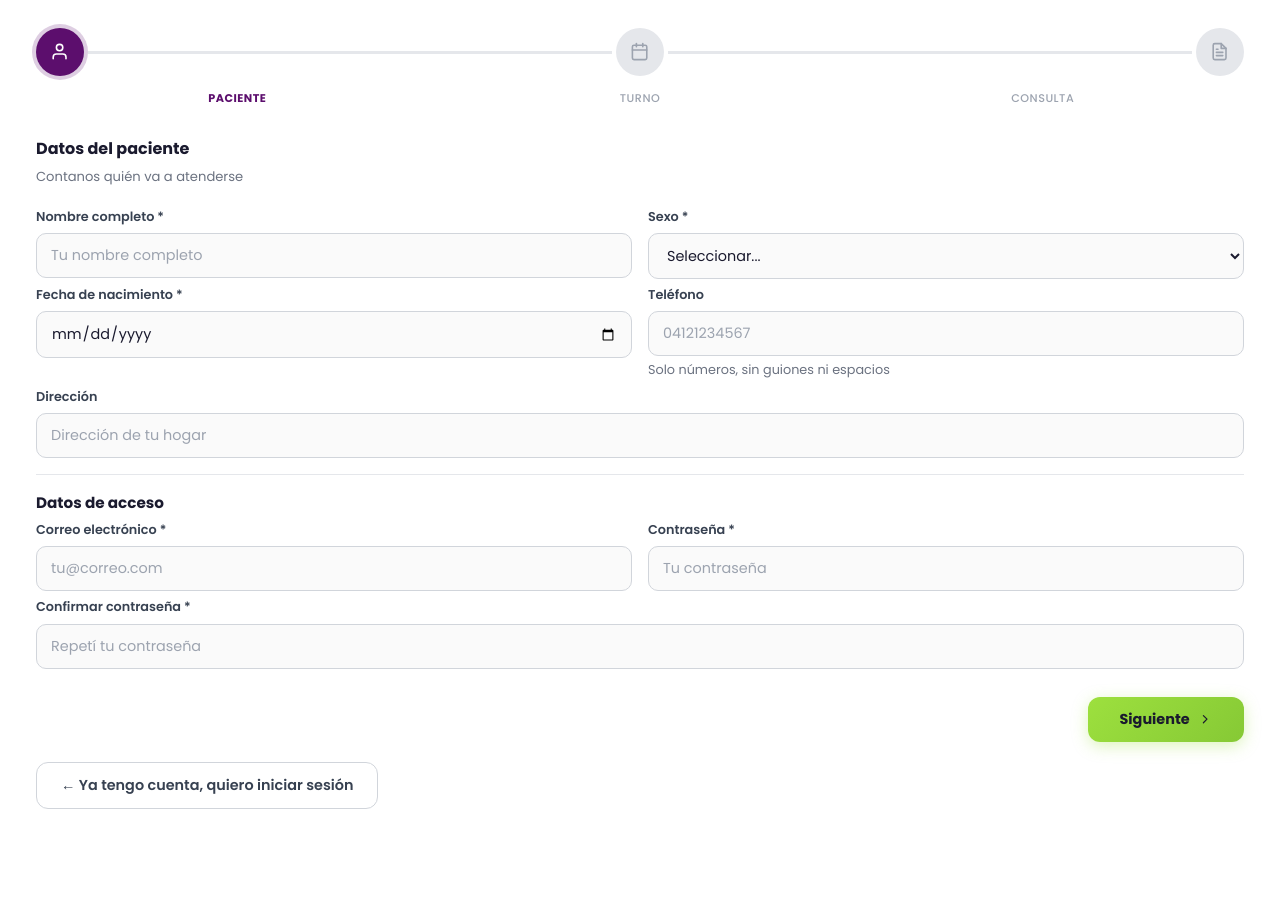
Scenario: el domingo está cerrado
Type "Ana Pérez" into the field with placeholder "Tu nombre completo" at (334, 256), box [36,233,632,278]
Select "Femenino" in the dropdown at (946, 256), box [648,233,1244,279]
Type "1990-05-15" into the date field at (334, 335), box [36,312,632,358]
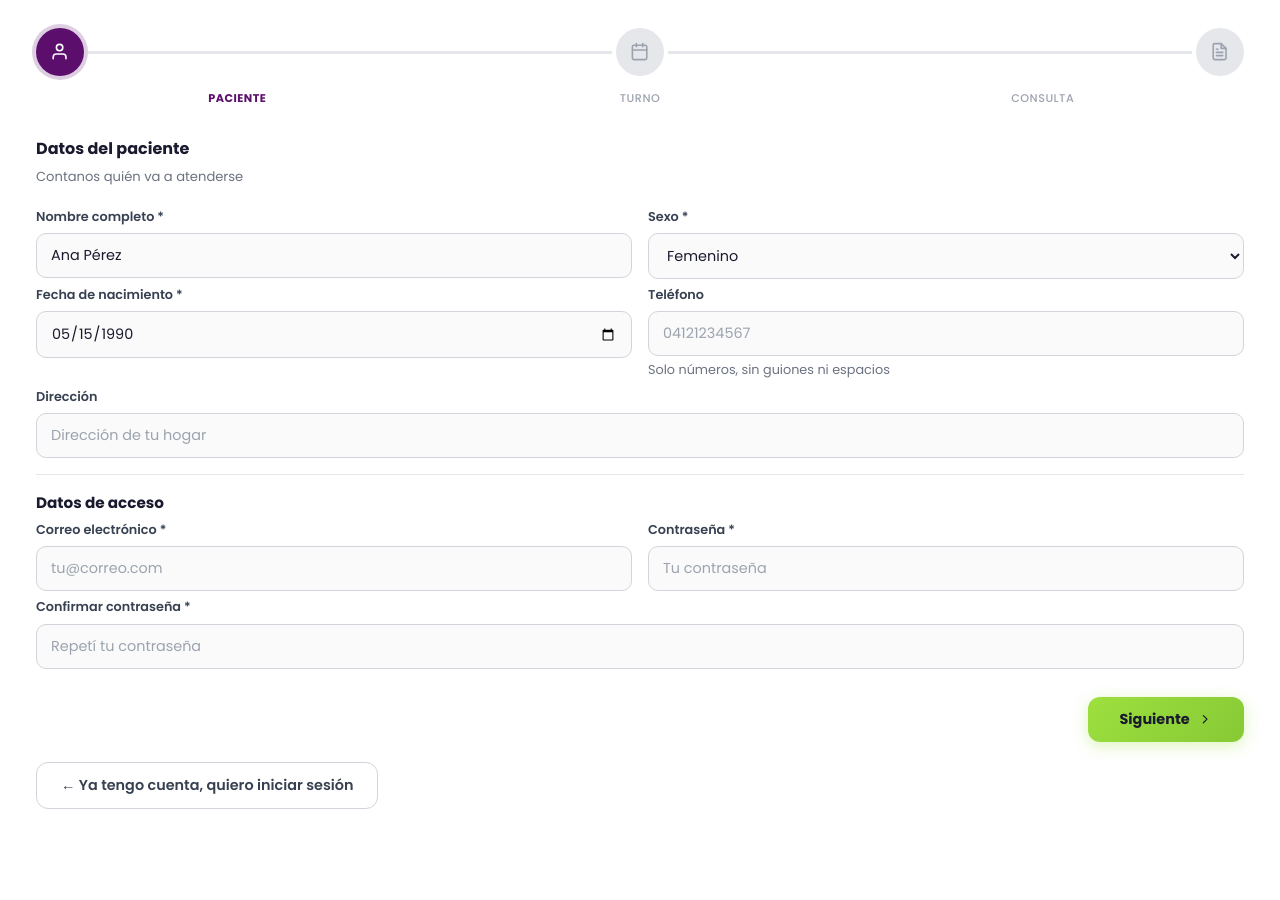
Type "ana@x.com" into the field with placeholder "tu@correo.com" at (334, 569), box [36,546,632,591]
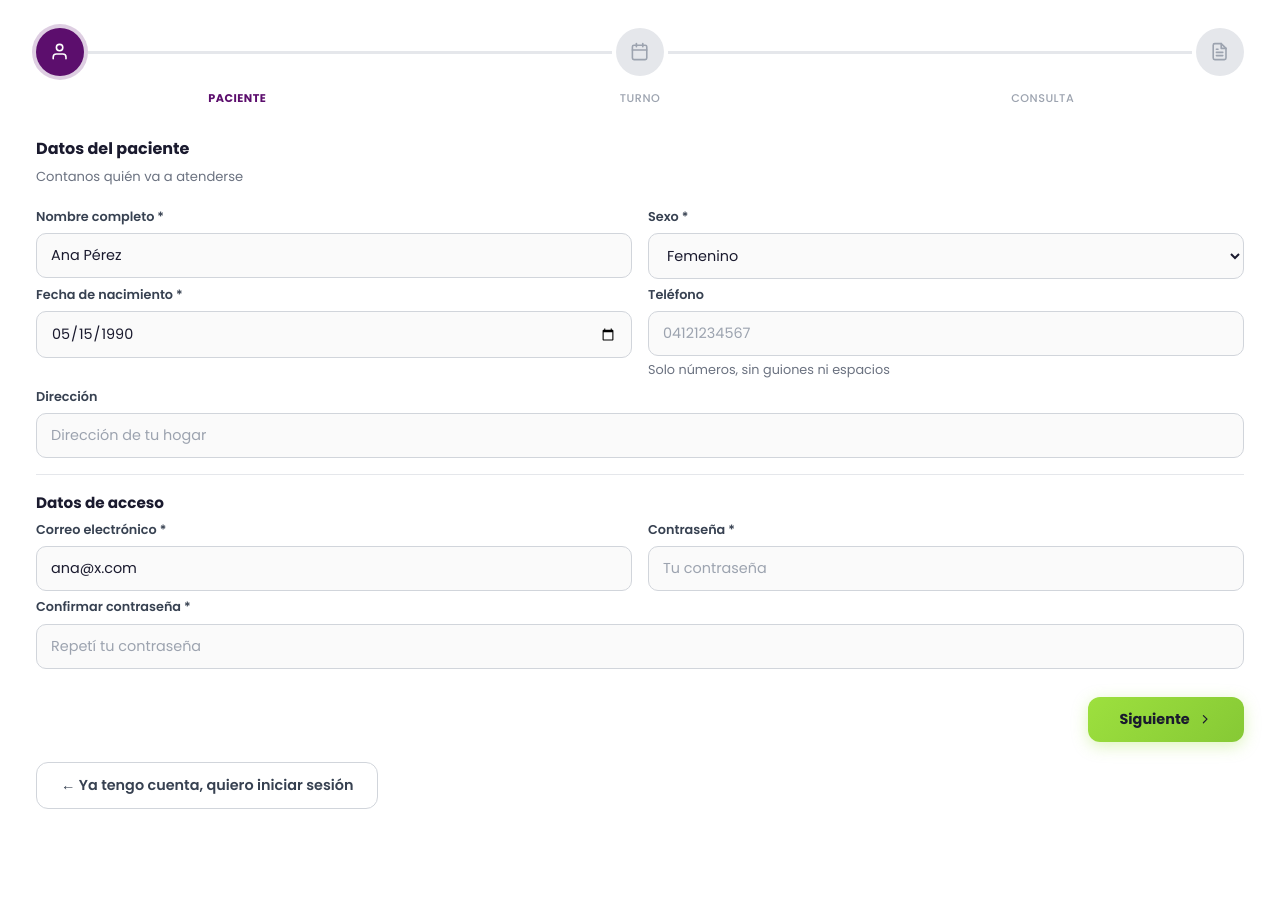
Type "clave123" into the password field with placeholder "Tu contraseña" at (946, 569), box [648,546,1244,591]
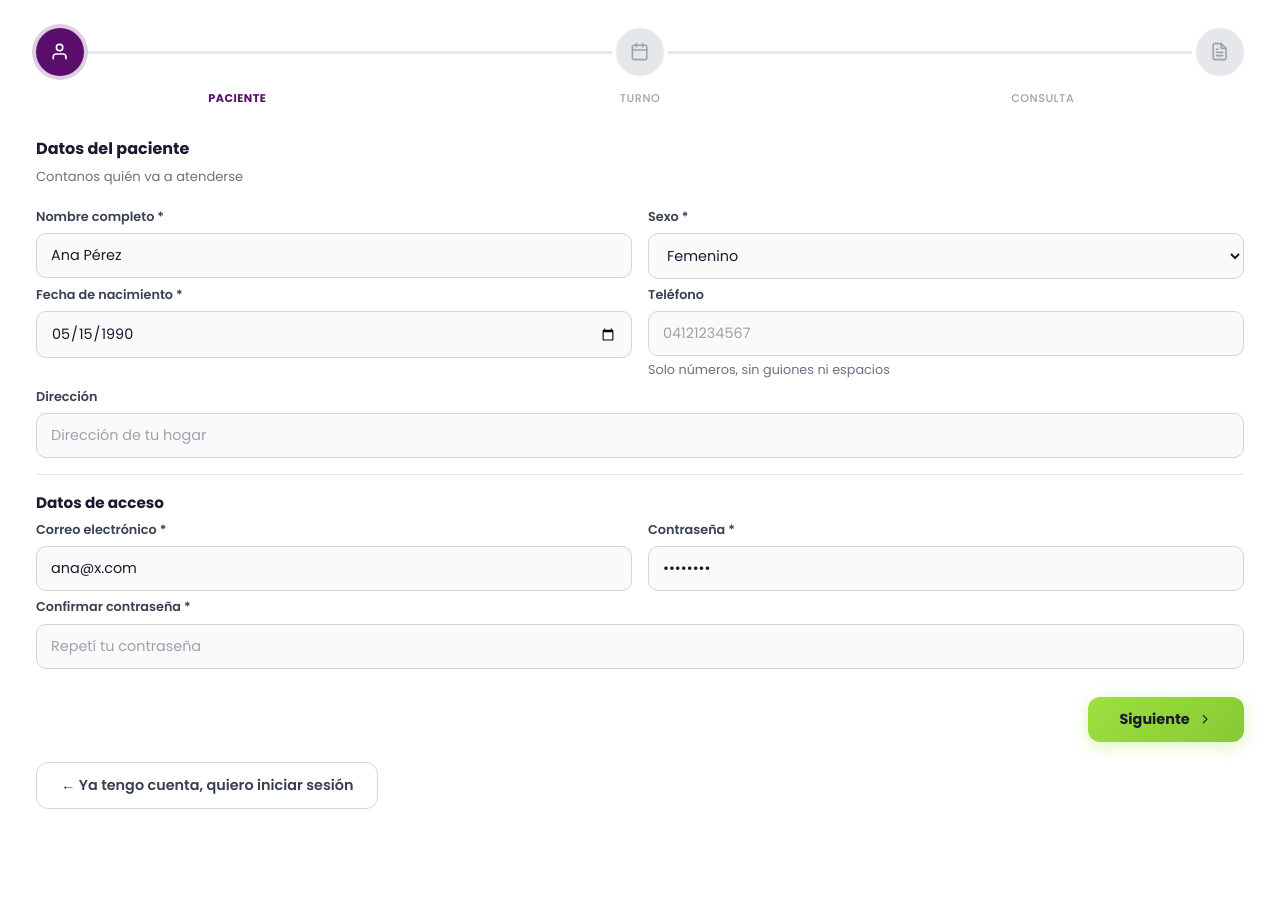
Type "clave123" into the password field with placeholder "Repetí tu contraseña" at (640, 646), box [36,624,1244,669]
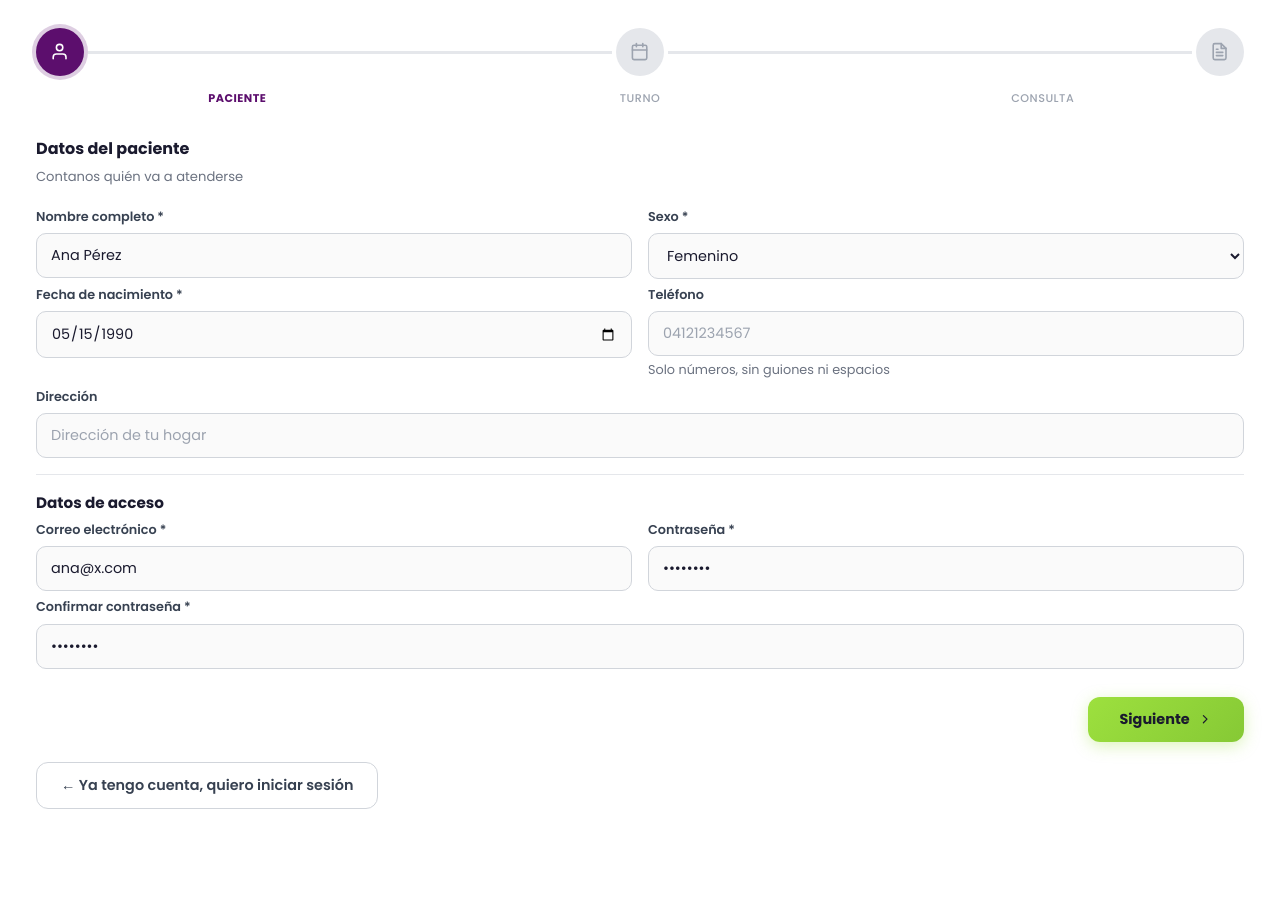
Click the button "Siguiente" at (1166, 719), box [1088,697,1244,742]
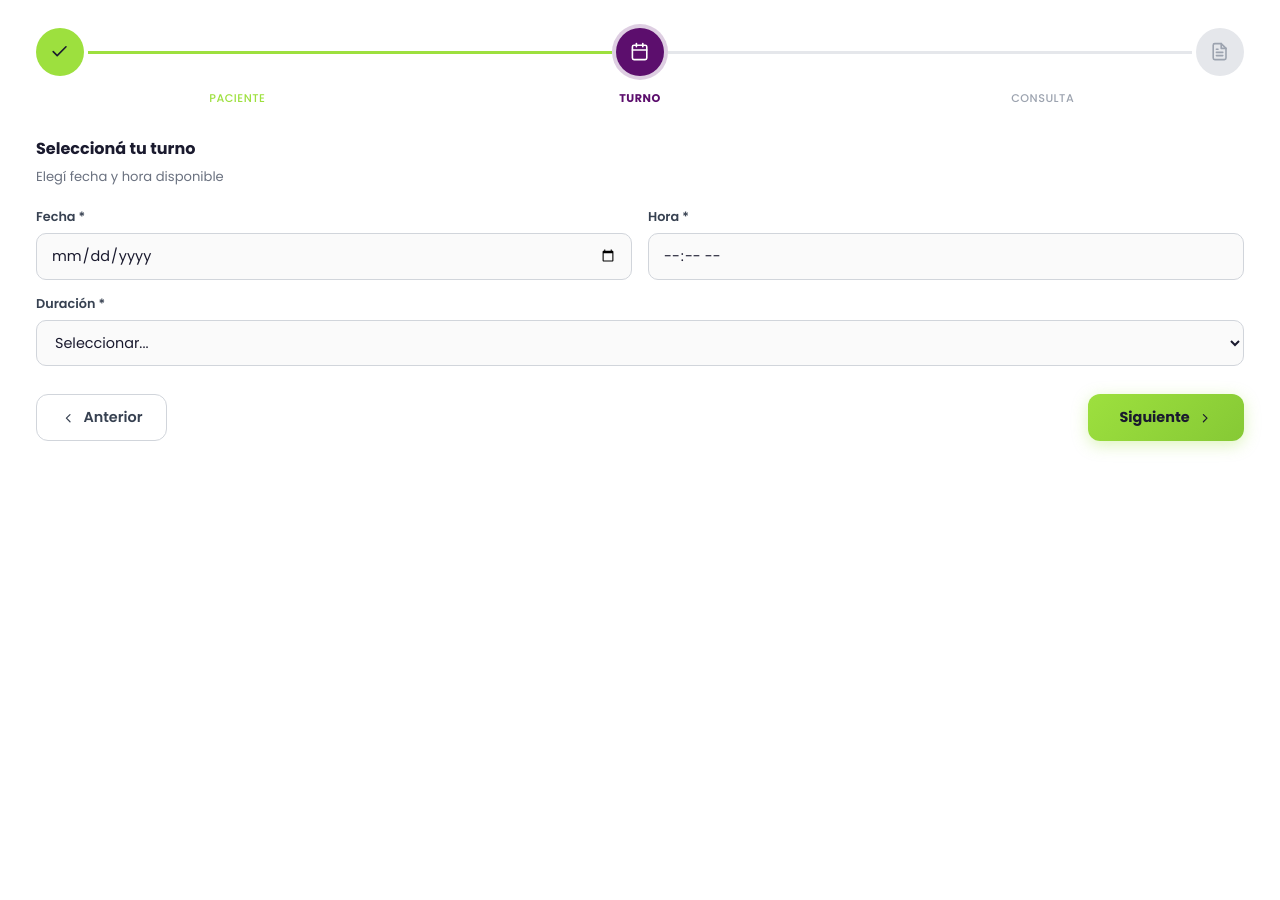
expect the heading "Seleccioná tu turno" is shown: met, box [36,137,195,160]
Type "2030-03-10" into the date field at (334, 256), box [36,233,632,280]
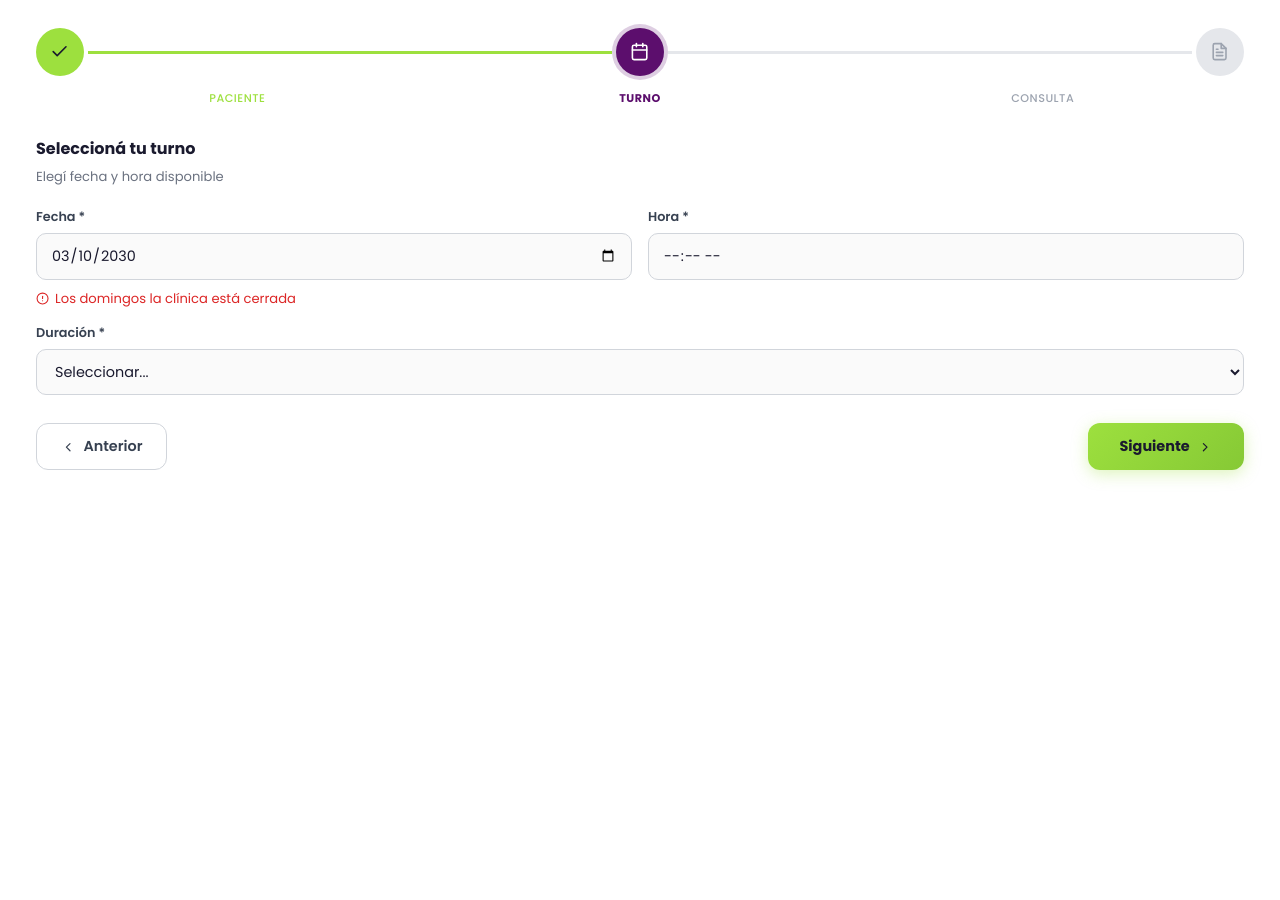
expect the time field is disabled: met, box [648,233,1244,280]
expect the text "Los domingos la clínica está cerrada" is shown: met, box [36,289,296,308]
